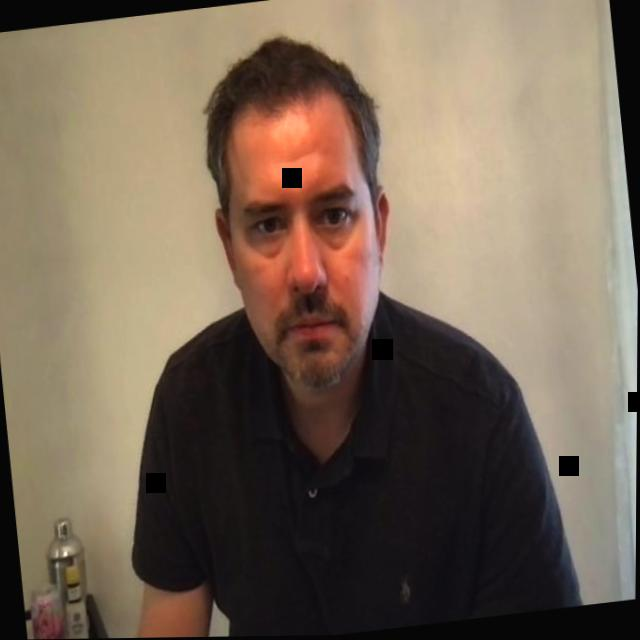NO-Mask: (194, 27, 413, 399)
